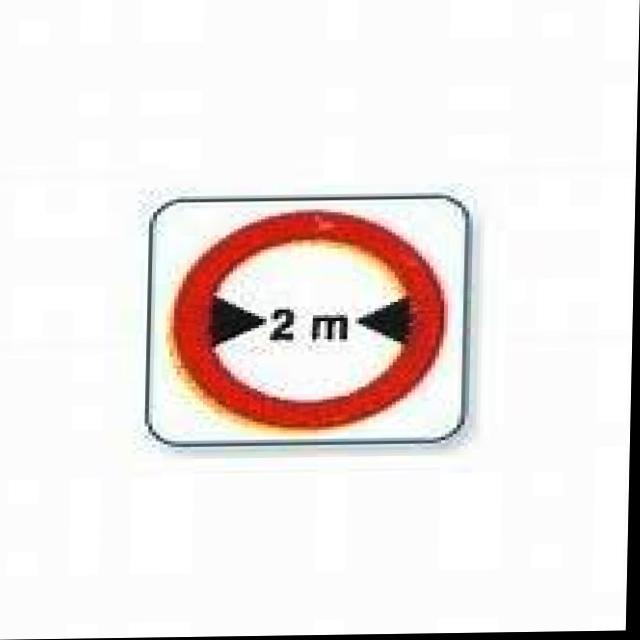WIDTH_LIMIT: (163, 206, 459, 435)
